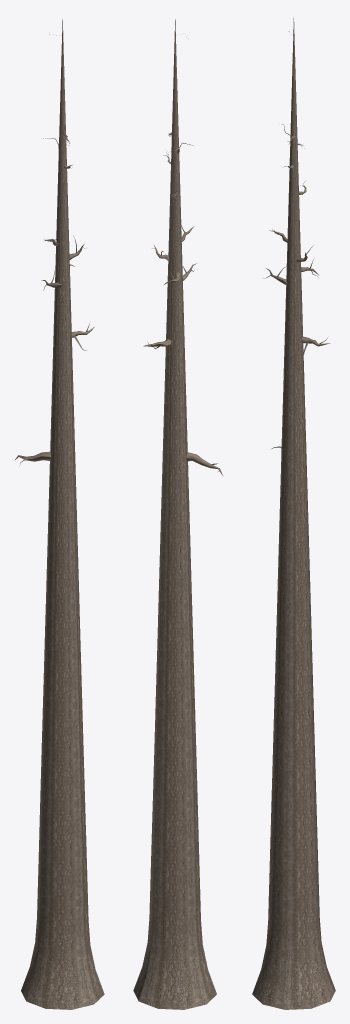
The model's file is RedwoodSnag_1.obj.
3 views of the same model, side by side, from view 1: azimuth 30°, elevation 25°; view 2: azimuth 210°, elevation 25°; view 3: azimuth 330°, elevation 25° (orthographic).
Parts seen in each view (by area): view 1: RedwoodSnag_1; view 2: RedwoodSnag_1; view 3: RedwoodSnag_1.
Boxes of the visible parts, box(x1,y1,x2,y2) form: RedwoodSnag_1: box(15, 19, 104, 1009); RedwoodSnag_1: box(133, 19, 223, 1009); RedwoodSnag_1: box(252, 18, 335, 1009).
Size of the model in its own units: 7.8 by 100 by 7.53.
Materials: 1 (1 with a texture image).
